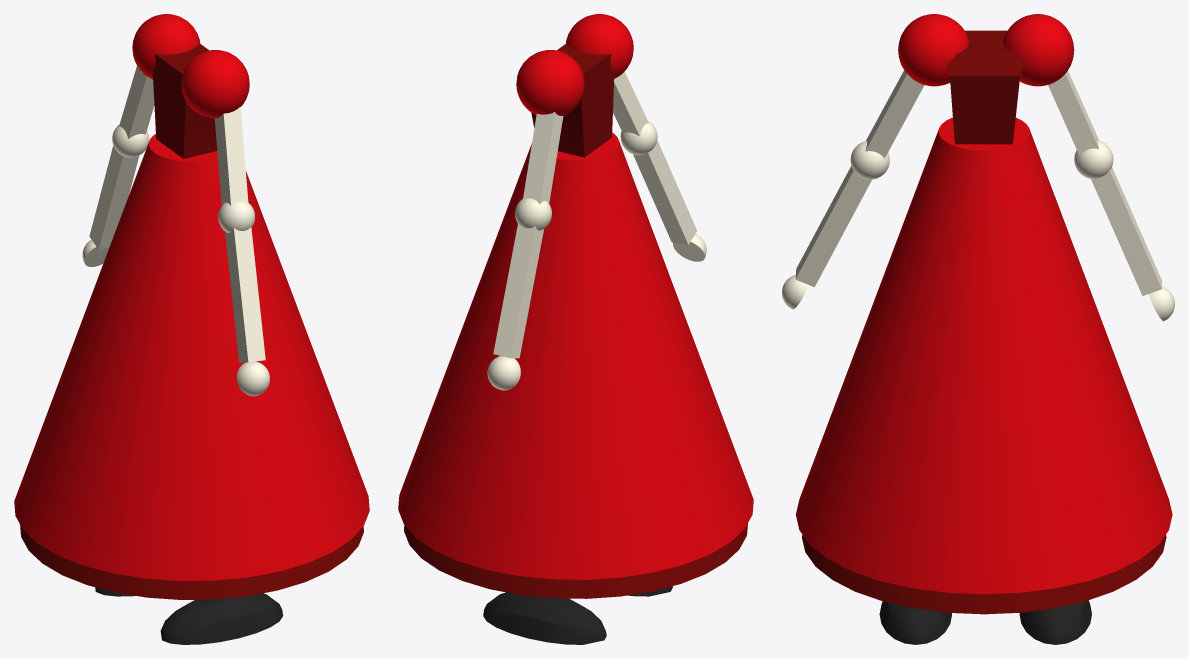
Rendered from Nora-Puppe_OhneKopf.fbx.
3 renders of one model, left to right at view 1: azimuth 30°, elevation 25°; view 2: azimuth 150°, elevation 25°; view 3: azimuth 270°, elevation 25°, orthographic. The views are drawn at different scales.
Parts seen in each view (by area): view 1: Circle.010, Circle.001, Cube.004, Sphere.007, Cube.001, Sphere.009, Cube.005, Sphere.010, Cube.003, Cube.002, Sphere.011, Sphere.012; view 2: Circle.010, Circle.001, Sphere.008, Cube.005, Cube.001, Sphere.010, Cube.004, Sphere.009, Cube.002, Cube.003, Sphere.012, Sphere.011; view 3: Circle.010, Circle.001, Cube.001, Cube.005, Sphere.010, Sphere.009, Cube.004, Sphere.008, Sphere.007, Cube.003, Cube.002, Sphere.012 (+1 smaller).
Boxes of the visible parts, box(x1,y1,x2,y2) form: Circle.010: box(14, 134, 369, 580); Circle.001: box(20, 524, 363, 599); Cube.004: box(225, 227, 269, 396); Sphere.007: box(160, 593, 283, 644); Cube.001: box(153, 43, 217, 158); Sphere.009: box(181, 50, 249, 118); Cube.005: box(82, 146, 139, 266); Sphere.010: box(132, 14, 200, 79); Cube.003: box(214, 107, 248, 205); Cube.002: box(119, 65, 154, 138); Sphere.011: box(218, 201, 254, 232); Sphere.012: box(112, 124, 149, 157); Circle.010: box(398, 133, 753, 579); Circle.001: box(404, 523, 747, 598); Sphere.008: box(483, 592, 606, 644); Cube.005: box(487, 223, 543, 390); Cube.001: box(531, 43, 614, 157); Sphere.010: box(516, 50, 584, 115); Cube.004: box(633, 140, 706, 261); Sphere.009: box(566, 14, 633, 78); Cube.002: box(523, 112, 563, 204); Cube.003: box(613, 71, 648, 136); Sphere.012: box(515, 198, 551, 230); Sphere.011: box(620, 120, 657, 155); Circle.010: box(796, 117, 1172, 594); Circle.001: box(802, 535, 1166, 614); Cube.001: box(946, 30, 1025, 144); Cube.005: box(1091, 167, 1174, 321); Sphere.010: box(1003, 14, 1074, 86); Sphere.009: box(898, 14, 969, 86); Cube.004: box(782, 166, 871, 309); Sphere.008: box(1019, 600, 1091, 644); Sphere.007: box(879, 601, 951, 644); Cube.003: box(865, 70, 924, 158); Cube.002: box(1048, 71, 1098, 155); Sphere.012: box(1074, 140, 1113, 178).
Size of the model in its own units: 215 by 378 by 225.
